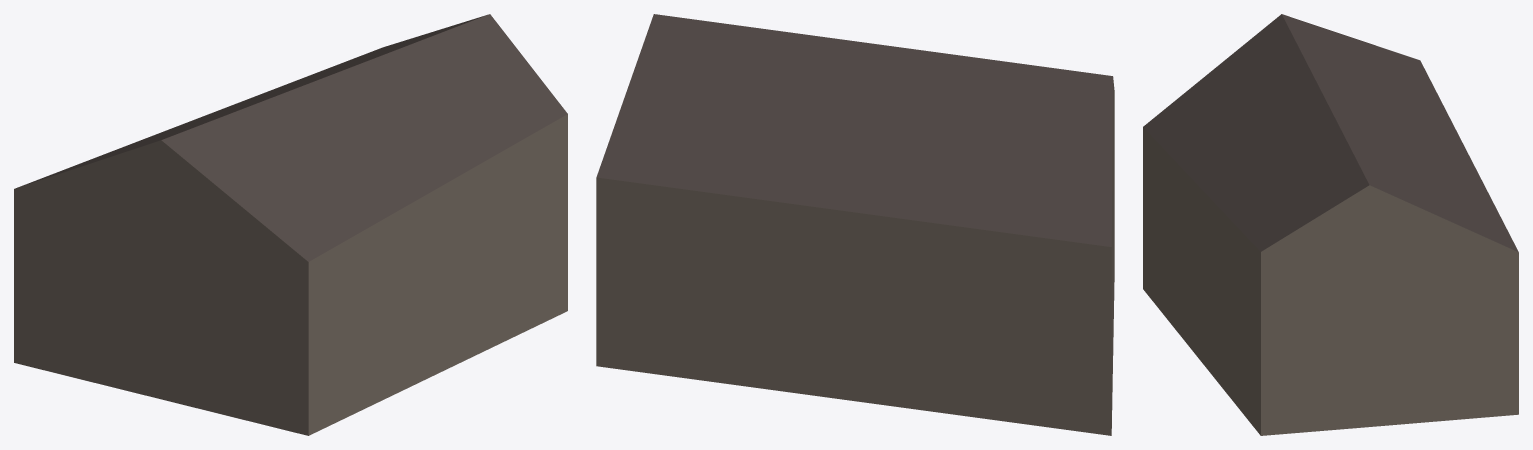
3 views of the same model, side by side, from view 1: azimuth 30°, elevation 25°; view 2: azimuth 150°, elevation 25°; view 3: azimuth 270°, elevation 25° (orthographic). The views are drawn at different scales.
Parts seen in each view (by area): view 1: HP-w1198881614; view 2: HP-w1198881614; view 3: HP-w1198881614.
Boxes of the visible parts, left/top/right/bottom form: HP-w1198881614: left=14, top=14, right=567, bottom=435; HP-w1198881614: left=596, top=14, right=1114, bottom=435; HP-w1198881614: left=1143, top=14, right=1518, bottom=435.
Size of the model in its own units: 16.91 by 8.94 by 12.6.
